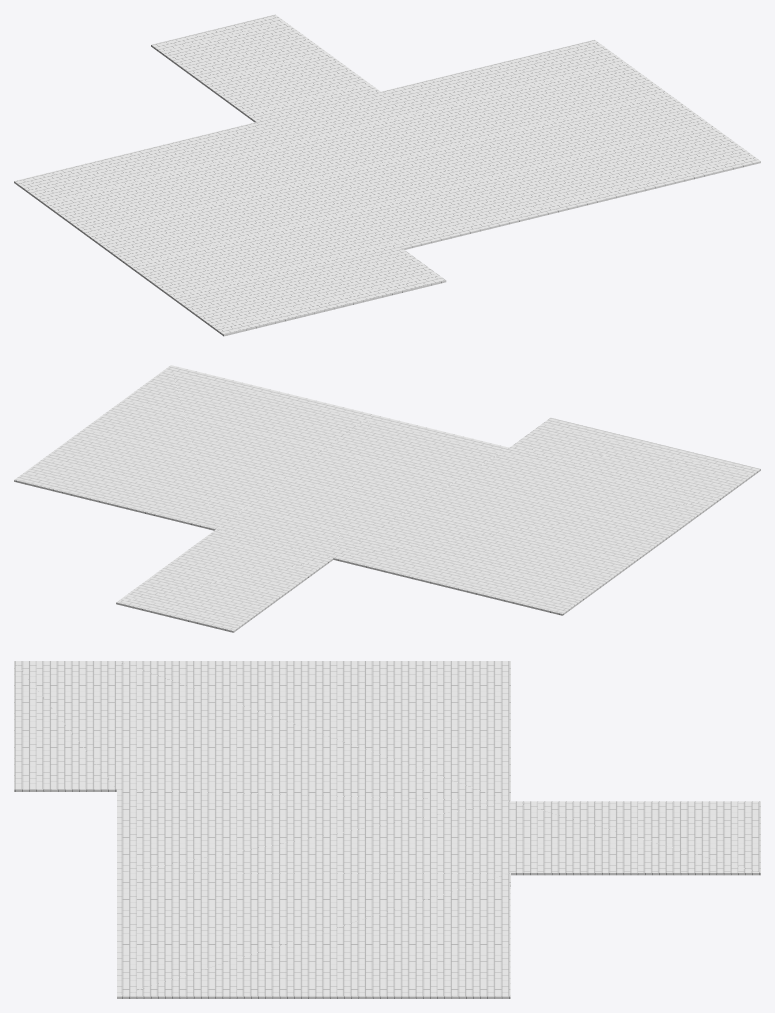
Rendered from Floor_01 (1).fbx.
3 renders of one model, top to bottom at view 1: azimuth 30°, elevation 25°; view 2: azimuth 150°, elevation 25°; view 3: azimuth 270°, elevation 25°, orthographic. The views are drawn at different scales.
Visible parts, largest first — view 1: Floor_01; view 2: Floor_01; view 3: Floor_01.
Part boxes in pixels (box(x1,y1,x2,y2)): Floor_01: box(14, 14, 760, 336); Floor_01: box(14, 365, 760, 632); Floor_01: box(14, 661, 760, 998).
Size of the model in its own units: 6209 by 18.6 by 5839.
1 material, 1 textured.
